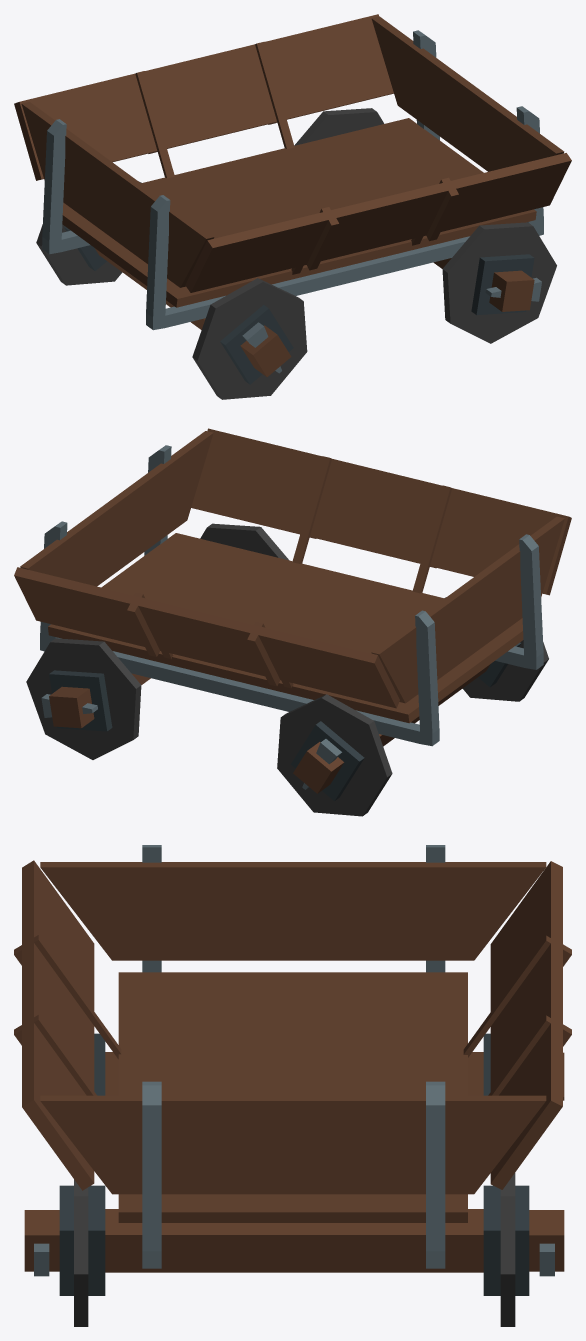
The model's file is cart_empty.fbx.
3 renders of one model, top to bottom at view 1: azimuth 30°, elevation 25°; view 2: azimuth 150°, elevation 25°; view 3: azimuth 270°, elevation 25°, orthographic. The views are drawn at different scales.
Parts seen in each view (by area): view 1: Plane.003; view 2: Plane.003; view 3: Plane.003.
Boxes of the visible parts, box(x1,y1,x2,y2) form: Plane.003: box(14, 14, 571, 399); Plane.003: box(14, 428, 571, 816); Plane.003: box(14, 845, 571, 1326).
Bounding box in the file's own units: 2.18 × 1.06 × 1.97.
